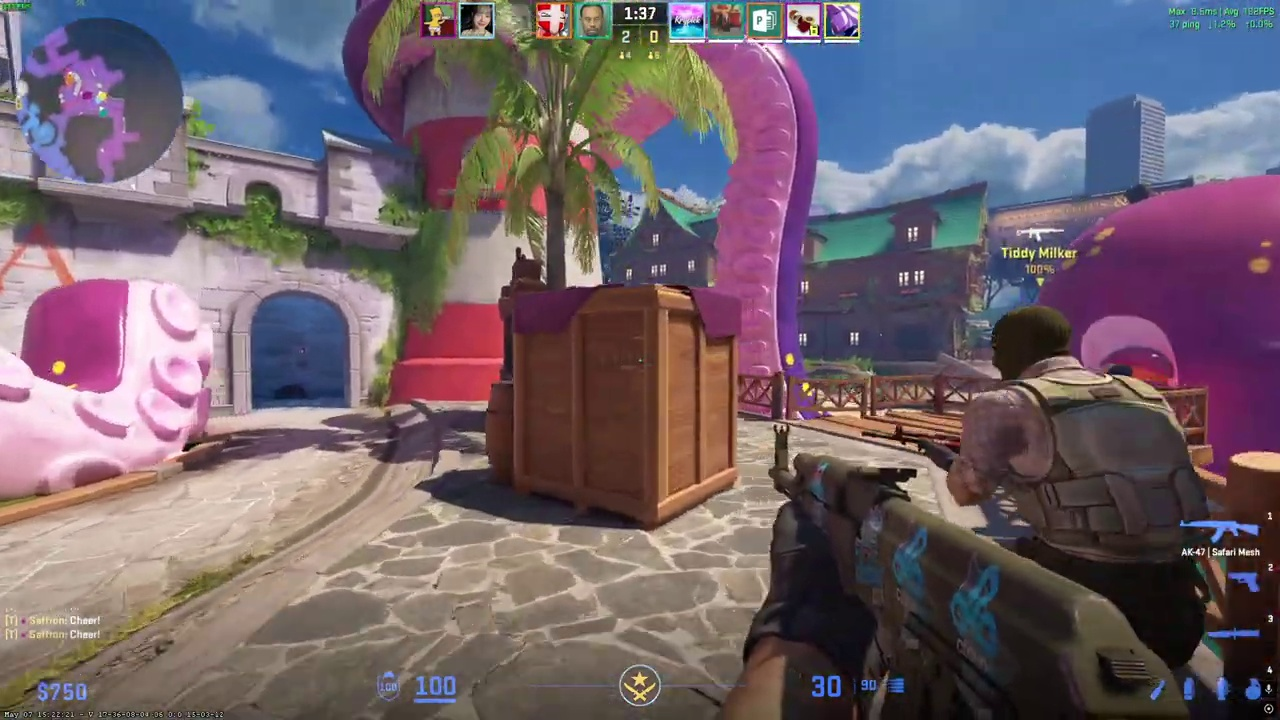Terrorist: (947, 305, 1210, 673)
